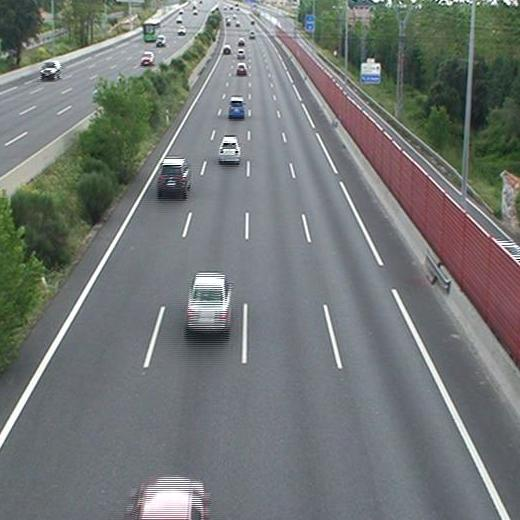car: (186, 274, 231, 329), (158, 159, 188, 191), (218, 138, 240, 161), (228, 98, 244, 116), (237, 64, 247, 74), (222, 46, 231, 56), (236, 50, 245, 59)
